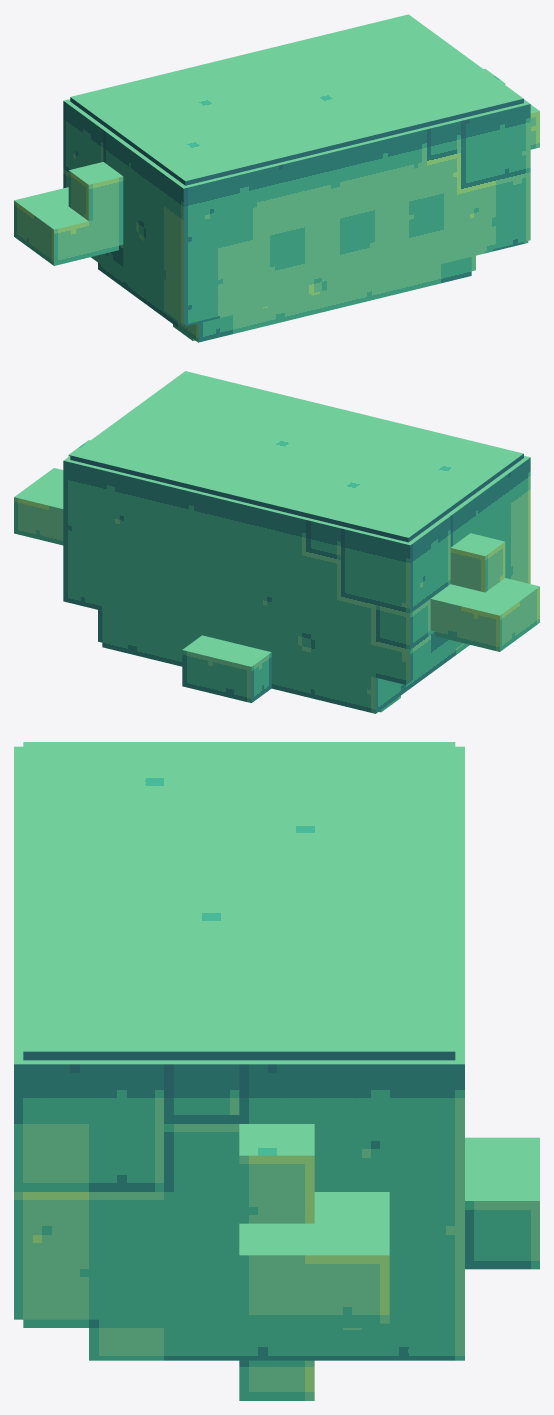
Rendered from big_owlao.fezao.glb.
3 renders of one model, top to bottom at view 1: azimuth 30°, elevation 25°; view 2: azimuth 150°, elevation 25°; view 3: azimuth 270°, elevation 25°, orthographic. The views are drawn at different scales.
Visible parts, largest first — view 1: BIG_OWLAO; view 2: BIG_OWLAO; view 3: BIG_OWLAO.
Part boxes in pixels (x1,y1,x2,y2): BIG_OWLAO: [14, 14, 539, 342]; BIG_OWLAO: [14, 371, 539, 713]; BIG_OWLAO: [14, 742, 539, 1400].
Bounding box in the file's own units: 7 × 3 × 3.5.
Materials: 1 (1 with a texture image).
